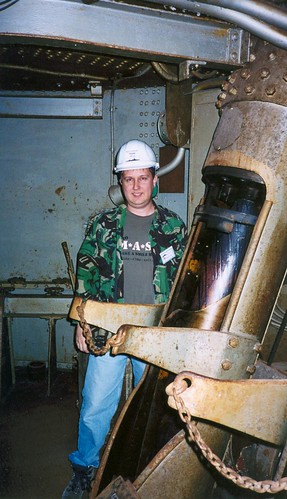person hardhat: (71, 137, 217, 494)
